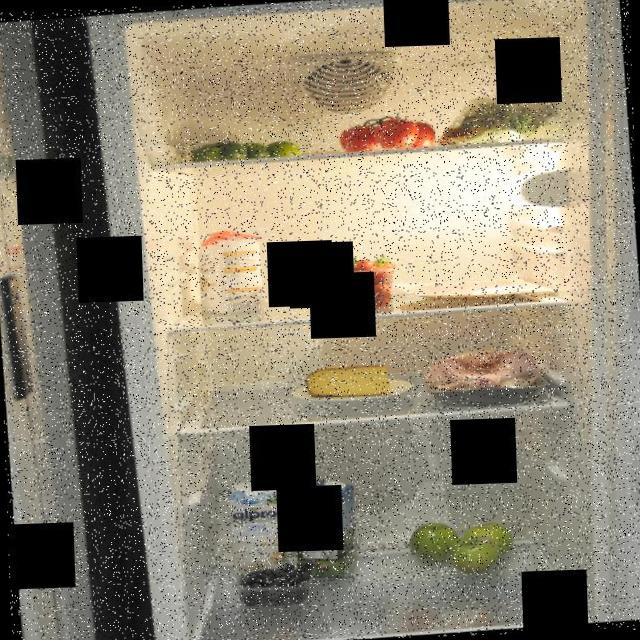Carne cerdo: (406, 272, 539, 308)
Carne pollo: (418, 342, 553, 411)
Leche: (291, 476, 365, 586), (224, 476, 294, 578)
Manzana: (408, 512, 524, 578)
Queso: (303, 358, 392, 402)
Tomate: (333, 104, 441, 154)
blueberries: (237, 560, 316, 605)
green_beans: (436, 88, 558, 146)
strawberries: (304, 248, 399, 316)
sugar: (196, 223, 266, 317)
